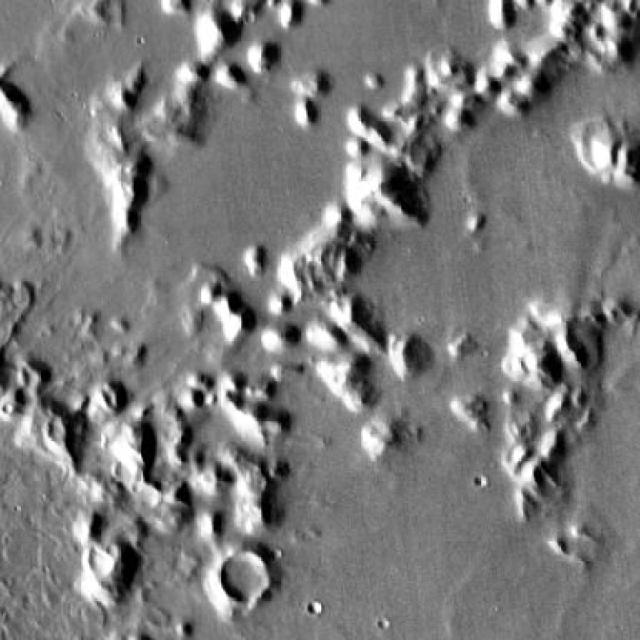crater: (218, 547, 270, 599)
